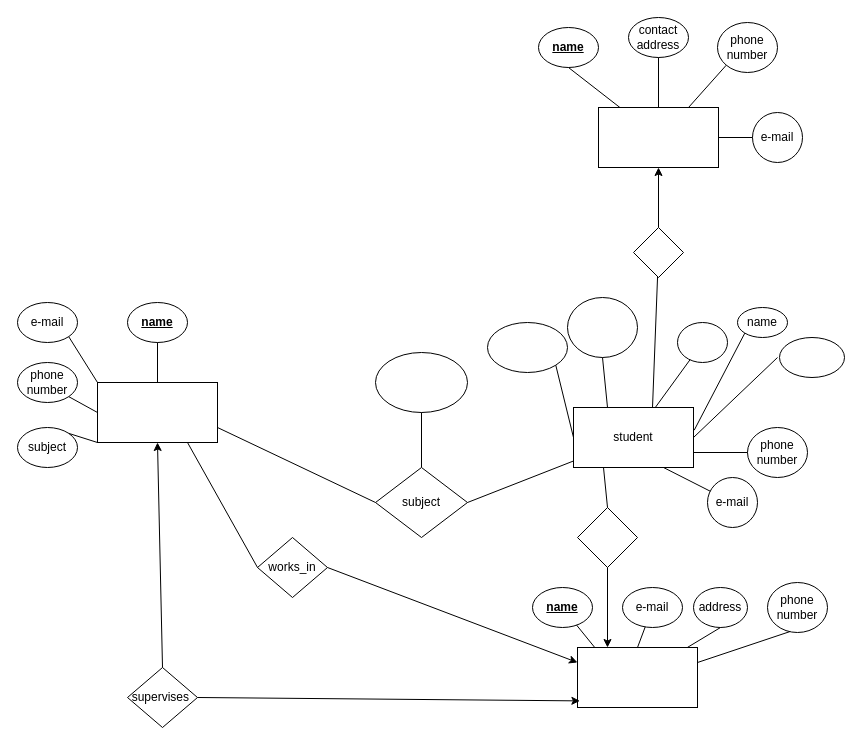
Image size: 862x745. Some labels were removed from this diagram. The shapes that lost their labels are listed below. From the top down, each one's centre as x and y in pixels, then its label:
(x=658, y=137): Parent
(x=658, y=252): has
(x=527, y=347): attendance
(x=602, y=327): notes
(x=702, y=342): grade
(x=811, y=357): studentID
(x=421, y=382): grades
(x=157, y=412): Teacher
(x=607, y=537): goes_to
(x=637, y=677): School
